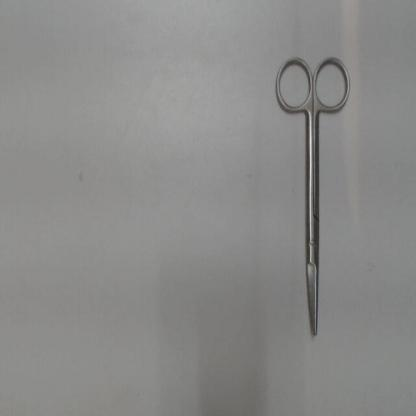Curved Mayo Scissors: (271, 51, 354, 341)
